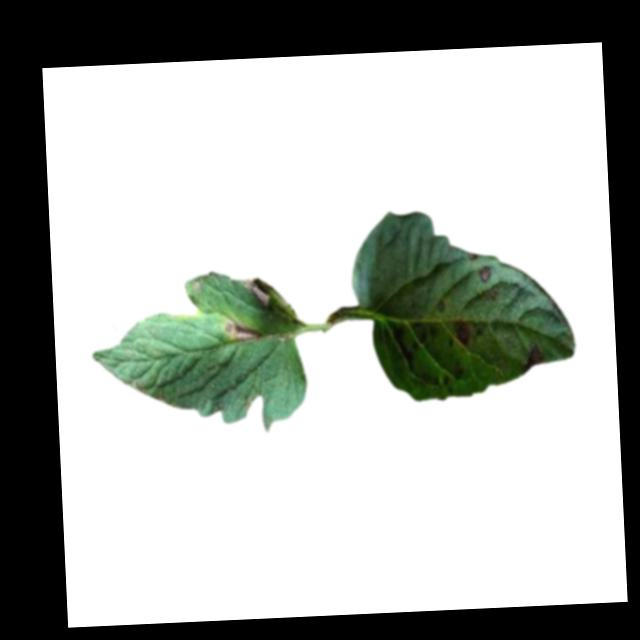Early_blight: (221, 317, 260, 345), (242, 273, 270, 306), (523, 344, 544, 369), (455, 317, 470, 347), (478, 266, 494, 285)
